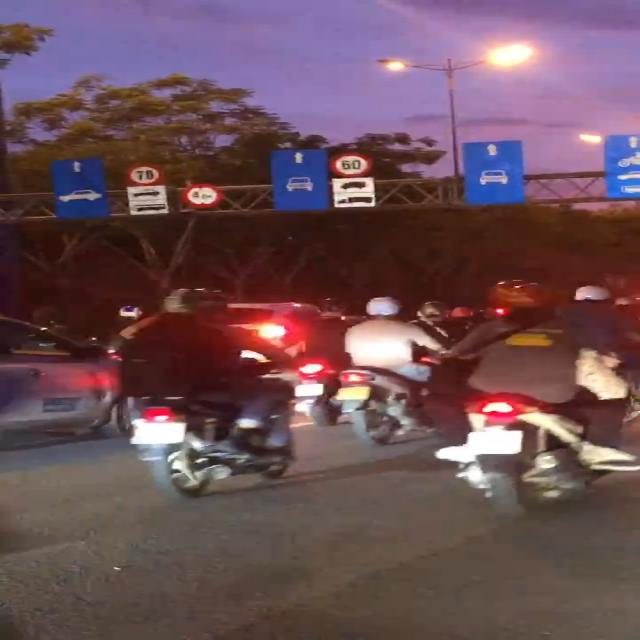Bien bao toc do toi da cho phep: (121, 160, 171, 186), (328, 150, 374, 178)
